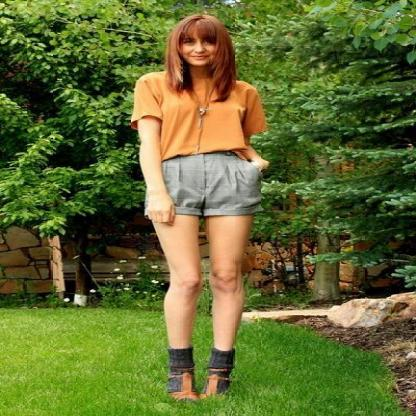shirt: (132, 75, 273, 171)
shoe: (157, 347, 238, 400)
shorts: (162, 152, 268, 221)
